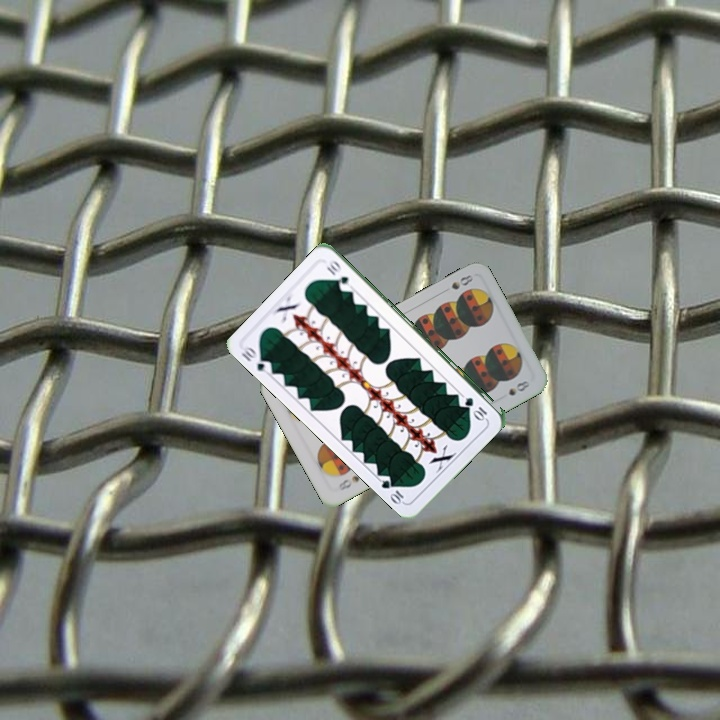G10: (237, 342, 275, 377), (461, 393, 490, 422)
S8: (447, 270, 476, 292), (335, 471, 362, 493)
